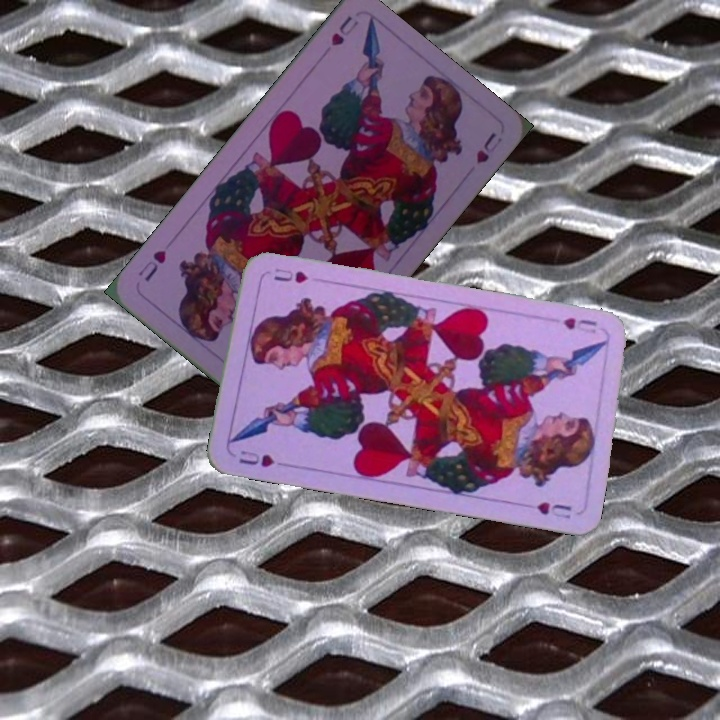HU: (327, 11, 362, 49), (235, 446, 278, 470), (559, 313, 599, 337)
